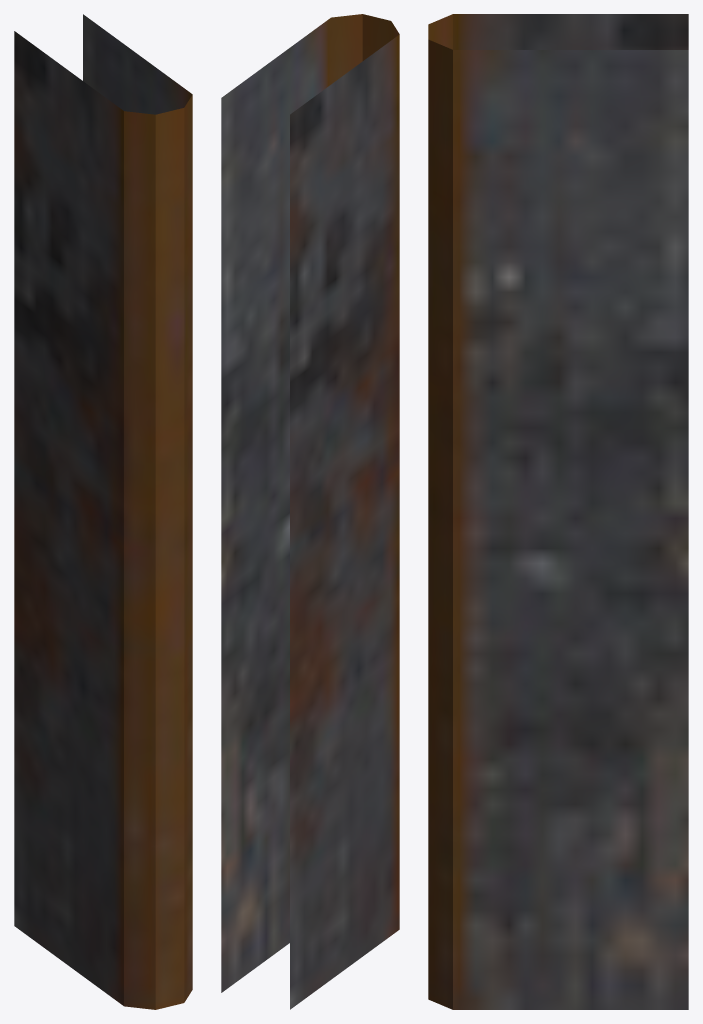
The model's file is CabinetPanel.FBX.
The picture shows the model from 3 angles, left to right: view 1: azimuth 30°, elevation 25°; view 2: azimuth 150°, elevation 25°; view 3: azimuth 270°, elevation 25°; orthographic projection. The views are drawn at different scales.
Parts seen in each view (by area): view 1: CabinetPanel; view 2: CabinetPanel; view 3: CabinetPanel.
Boxes of the visible parts, left/top/right/bottom form: CabinetPanel: left=14, top=14, right=192, bottom=1009; CabinetPanel: left=221, top=14, right=399, bottom=1009; CabinetPanel: left=428, top=14, right=688, bottom=1009.
Size of the model in its own units: 6.29 by 78.36 by 19.26.
